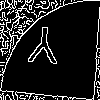Y: (25, 25, 61, 74)
